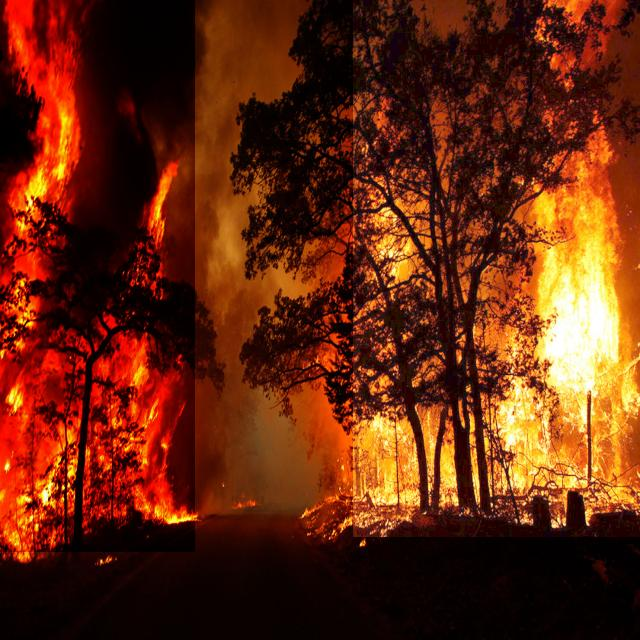Fire: (353, 0, 640, 537), (0, 0, 195, 552)
